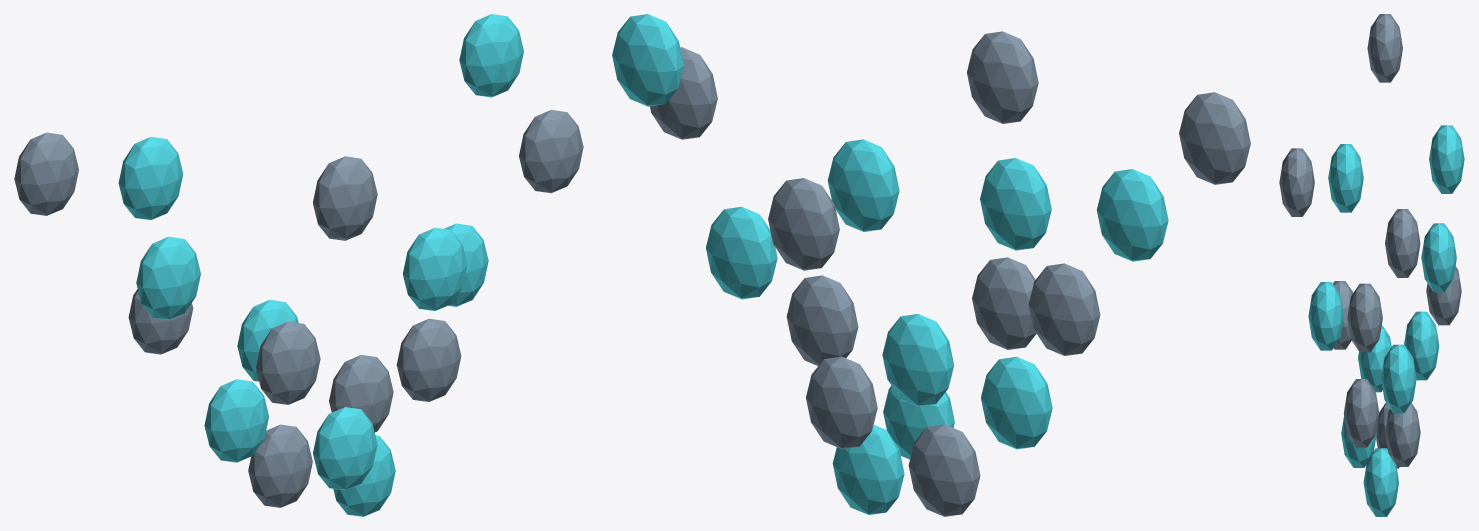
The model's file is swarm_v2.glb.
3 views of the same model, side by side, from view 1: azimuth 30°, elevation 25°; view 2: azimuth 150°, elevation 25°; view 3: azimuth 270°, elevation 25° (orthographic). The views are drawn at different scales.
Visible parts, largest first — view 1: SWARM_CREATURE_ACCENT.008, SWARM_CREATURE_ACCENT.001, SWARM_CREATURE_ACCENT.002, SWARM_CREATURE_ACCENT.005, SWARM_CREATURE_PRIMARY.007, SWARM_CREATURE_PRIMARY.008, SWARM_CREATURE_PRIMARY.003, SWARM_CREATURE_PRIMARY.006, SWARM_CREATURE_PRIMARY.002, SWARM_CREATURE_ACCENT.006, SWARM_CREATURE_ACCENT.007, SWARM_CREATURE_PRIMARY (+5 smaller); view 2: SWARM_CREATURE_PRIMARY.008, SWARM_CREATURE_ACCENT.003, SWARM_CREATURE_ACCENT.002, SWARM_CREATURE_PRIMARY.005, SWARM_CREATURE_ACCENT.008, SWARM_CREATURE_ACCENT.007, SWARM_CREATURE_PRIMARY.004, SWARM_CREATURE_PRIMARY.007, SWARM_CREATURE_PRIMARY, SWARM_CREATURE_ACCENT.006, SWARM_CREATURE_PRIMARY.001, SWARM_CREATURE_ACCENT.005 (+6 smaller); view 3: SWARM_CREATURE_ACCENT.004, SWARM_CREATURE_PRIMARY.006, SWARM_CREATURE_ACCENT.008, SWARM_CREATURE_ACCENT.006, SWARM_CREATURE_ACCENT.005, SWARM_CREATURE_ACCENT.007, SWARM_CREATURE_PRIMARY.007, SWARM_CREATURE_PRIMARY.008, SWARM_CREATURE_PRIMARY.002, SWARM_CREATURE_PRIMARY.004, SWARM_CREATURE_ACCENT, SWARM_CREATURE_ACCENT.003 (+6 smaller).
Part boxes in pixels (box(x1,y1,x2,y2)): SWARM_CREATURE_ACCENT.008: box(459, 14, 523, 97); SWARM_CREATURE_ACCENT.001: box(313, 407, 377, 490); SWARM_CREATURE_ACCENT.002: box(204, 379, 268, 462); SWARM_CREATURE_ACCENT.005: box(403, 227, 467, 310); SWARM_CREATURE_PRIMARY.007: box(313, 156, 377, 239); SWARM_CREATURE_PRIMARY.008: box(14, 132, 78, 215); SWARM_CREATURE_PRIMARY.003: box(256, 321, 320, 404); SWARM_CREATURE_PRIMARY.006: box(519, 110, 583, 193); SWARM_CREATURE_PRIMARY.002: box(396, 318, 461, 401); SWARM_CREATURE_ACCENT.006: box(136, 236, 200, 319); SWARM_CREATURE_ACCENT.007: box(118, 137, 183, 220); SWARM_CREATURE_PRIMARY: box(248, 424, 312, 507); SWARM_CREATURE_PRIMARY.008: box(1179, 92, 1250, 184); SWARM_CREATURE_ACCENT.003: box(882, 314, 954, 406); SWARM_CREATURE_ACCENT.002: box(981, 356, 1052, 449); SWARM_CREATURE_PRIMARY.005: box(768, 178, 839, 270); SWARM_CREATURE_ACCENT.008: box(612, 14, 683, 106); SWARM_CREATURE_ACCENT.007: box(980, 158, 1051, 250); SWARM_CREATURE_PRIMARY.004: box(1028, 263, 1100, 355); SWARM_CREATURE_PRIMARY.007: box(967, 31, 1038, 123); SWARM_CREATURE_PRIMARY: box(908, 424, 980, 516); SWARM_CREATURE_ACCENT.006: box(1096, 169, 1168, 261); SWARM_CREATURE_PRIMARY.001: box(806, 356, 877, 448); SWARM_CREATURE_ACCENT.005: box(827, 139, 899, 231); SWARM_CREATURE_ACCENT.004: box(1381, 344, 1416, 413); SWARM_CREATURE_PRIMARY.006: box(1347, 283, 1382, 352); SWARM_CREATURE_ACCENT.008: box(1421, 223, 1456, 292); SWARM_CREATURE_ACCENT.006: box(1328, 144, 1363, 212); SWARM_CREATURE_ACCENT.005: box(1308, 282, 1343, 350); SWARM_CREATURE_ACCENT.007: box(1429, 125, 1464, 193); SWARM_CREATURE_PRIMARY.007: box(1279, 148, 1314, 216); SWARM_CREATURE_PRIMARY.008: box(1367, 14, 1402, 82); SWARM_CREATURE_PRIMARY.002: box(1343, 379, 1379, 447); SWARM_CREATURE_PRIMARY.004: box(1385, 209, 1420, 277); SWARM_CREATURE_ACCENT: box(1363, 448, 1398, 516); SWARM_CREATURE_ACCENT.003: box(1404, 311, 1439, 380).
Size of the model in its own units: 2.34 by 1.87 by 0.8329.
